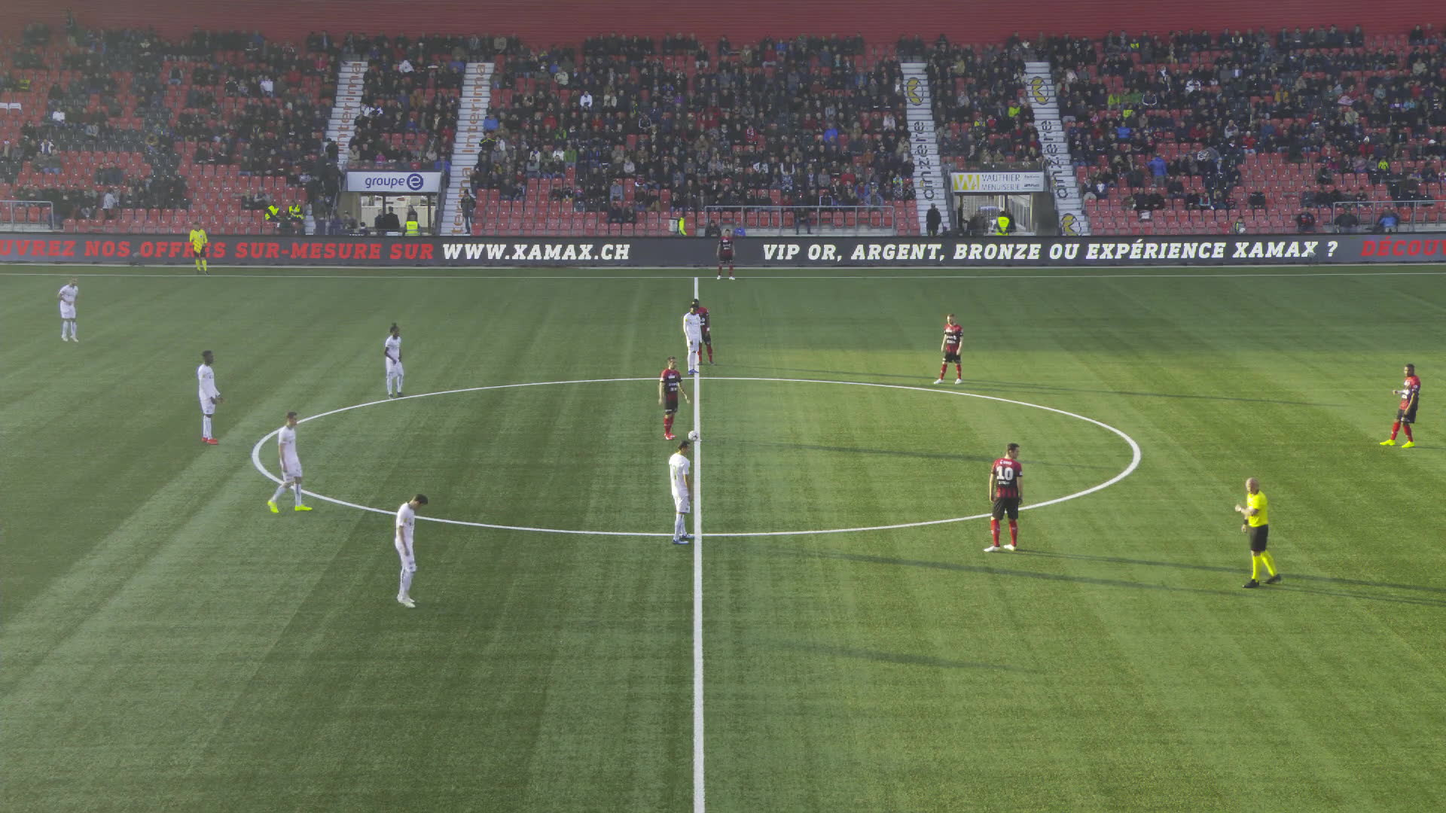ball: (688, 430, 698, 440)
player: (268, 410, 313, 514), (982, 441, 1024, 552), (393, 491, 428, 609), (1379, 363, 1421, 449), (667, 439, 699, 544), (655, 355, 688, 440), (197, 349, 224, 444), (932, 312, 964, 385), (383, 321, 408, 399), (688, 298, 715, 365), (56, 277, 79, 343), (682, 303, 702, 374), (715, 228, 735, 279)
referee: (1236, 475, 1282, 588), (188, 221, 209, 276)
